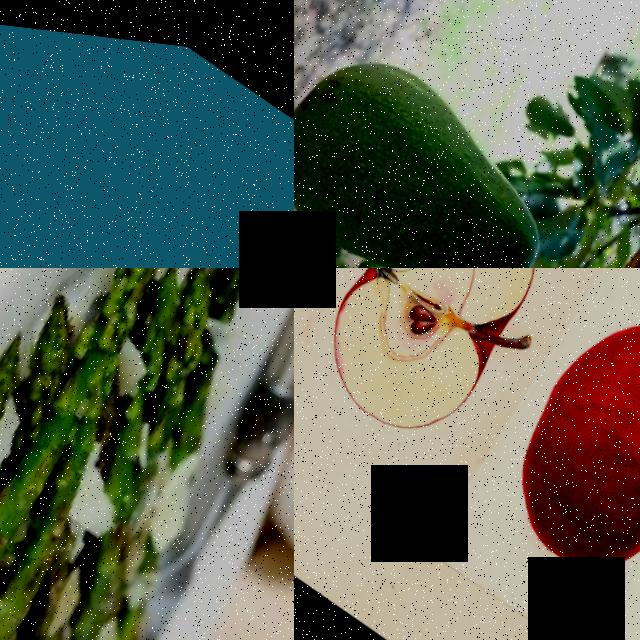apple: (294, 268, 603, 500), (465, 268, 640, 639)
asparagus: (0, 268, 195, 640)
avocado: (294, 20, 605, 268)
banana: (0, 0, 294, 268)
